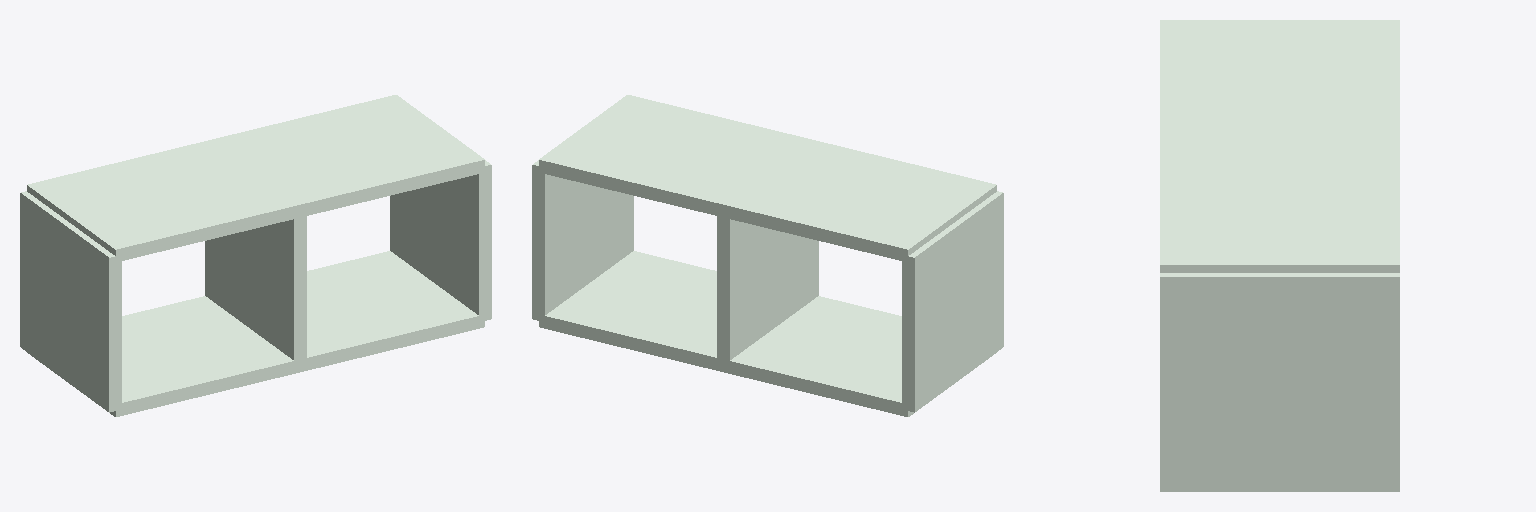
URDF robot description (shelf.urdf):
<?xml version="1.0" ?>
<robot name="shelf.urdf">
  <material name="Caramel">
    <color rgba=".95 1 .95 1"/>
  </material>
  <link name="baseLink">
    <contact>
      <lateral_friction value="1.0"/>
    </contact>
    <inertial>
      <origin rpy="0 0 0" xyz="0 0 0"/>
      <mass value=".0"/>
      <inertia ixx="1" ixy="0" ixz="0" iyy="1" iyz="0" izz="1"/>
    </inertial>

    <!-- vertical slabs -->
    <visual>
      <origin rpy="0 0 0" xyz=".3 0 0"/>
      <geometry>
				<box size=".02 .25 .24"/>
      </geometry>
      <material name="Caramel"/>
    </visual>
    <collision>
      <origin rpy="0 0 0" xyz=".3 0 0"/>
      <geometry>
				<box size=".02 .25 .24"/>
      </geometry>
    </collision>

    <visual>
      <origin rpy="0 0 0" xyz="0 0 0"/>
      <geometry>
				<box size=".02 .25 .24"/>
      </geometry>
      <material name="Caramel"/>
    </visual>
    <collision>
      <origin rpy="0 0 0" xyz="0 0 0"/>
      <geometry>
				<box size=".02 .25 .24"/>
      </geometry>
    </collision>

    <visual>
      <origin rpy="0 0 0" xyz="-.3 0 0"/>
      <geometry>
				<box size=".02 .25 .24"/>
      </geometry>
      <material name="Caramel"/>
    </visual>
    <collision>
      <origin rpy="0 0 0" xyz="-.3 0 0"/>
      <geometry>
				<box size=".02 .25 .24"/>
      </geometry>
    </collision>

    <!-- horizontal slabs -->
    <visual>
      <origin rpy="0 0 0" xyz="0 0 .12"/>
      <geometry>
				<box size=".6 .25 .02"/>
      </geometry>
      <material name="Caramel"/>
    </visual>
    <collision>
      <origin rpy="0 0 0" xyz="0 0 .12"/>
      <geometry>
				<box size=".6 .25 .02"/>
      </geometry>
    </collision>

    <visual>
      <origin rpy="0 0 0" xyz="0 0 -.12"/>
      <geometry>
				<box size=".6 .25 .02"/>
      </geometry>
      <material name="Caramel"/>
    </visual>
    <collision>
      <origin rpy="0 0 0" xyz="0 0 -.12"/>
      <geometry>
				<box size=".6 .25 .02"/>
      </geometry>
    </collision>
  </link>
</robot>

--- What the picture shows (computed from the rendered views, not written in the file) ---
Views: 3 orthographic renders of the robot side by side, from view 1: azimuth 30°, elevation 25°; view 2: azimuth 150°, elevation 25°; view 3: azimuth 270°, elevation 25°.
Model shelf.urdf with 1 links and 0 joints (none), rooted at baseLink, posed all joints at 0.
Visible links, largest first — view 1: baseLink; view 2: baseLink; view 3: baseLink.
Boxes of the visible links, bbox=[...] form: baseLink: bbox=[20, 95, 491, 416]; baseLink: bbox=[532, 95, 1003, 416]; baseLink: bbox=[1160, 20, 1399, 491].
Size in the robot's own frame: 0.62 by 0.25 by 0.26 metres.
Geometry: primitives only (box / cylinder / sphere), no mesh files.